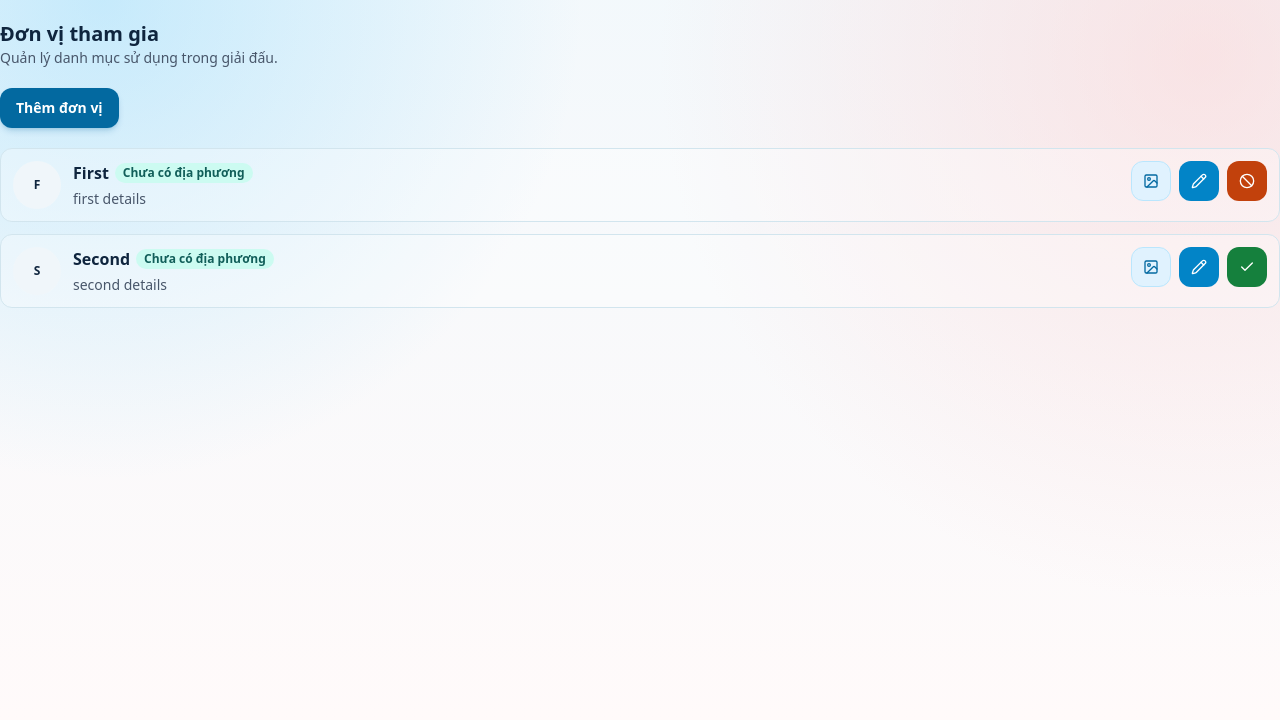
Scenario: RosterItemsPage › hydrates each selected row and replaces every value when switching rows
The image size is (1280, 720).
Click the button named "Sửa" in the row of "first details".
click(1199, 181)  # box [1179, 161, 1219, 201]
(page scrolled)
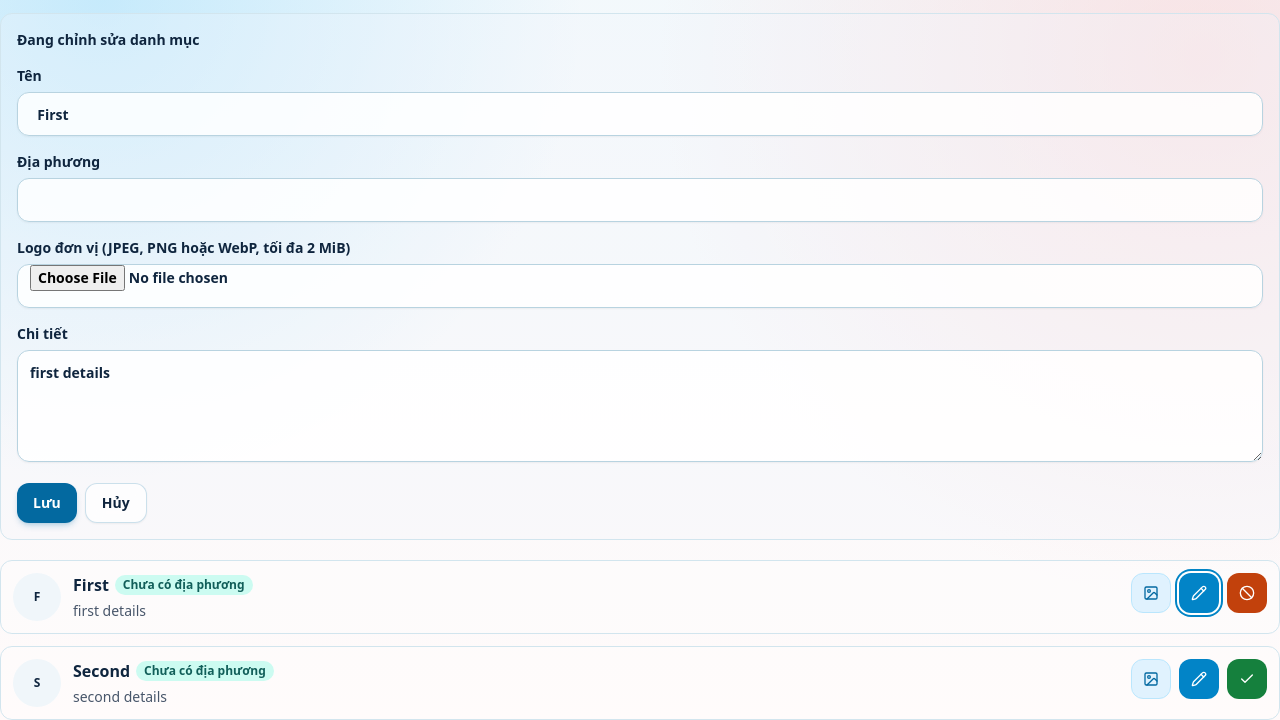
Result: the field labelled "Tên" holds "  First  " at [17, 92, 1263, 136]
Result: the text box labelled "Chi tiết" holds "first details" at [17, 350, 1263, 462]
Click the button named "Sửa" in the row of "second details".
click(1199, 679)  # box [1179, 659, 1219, 699]
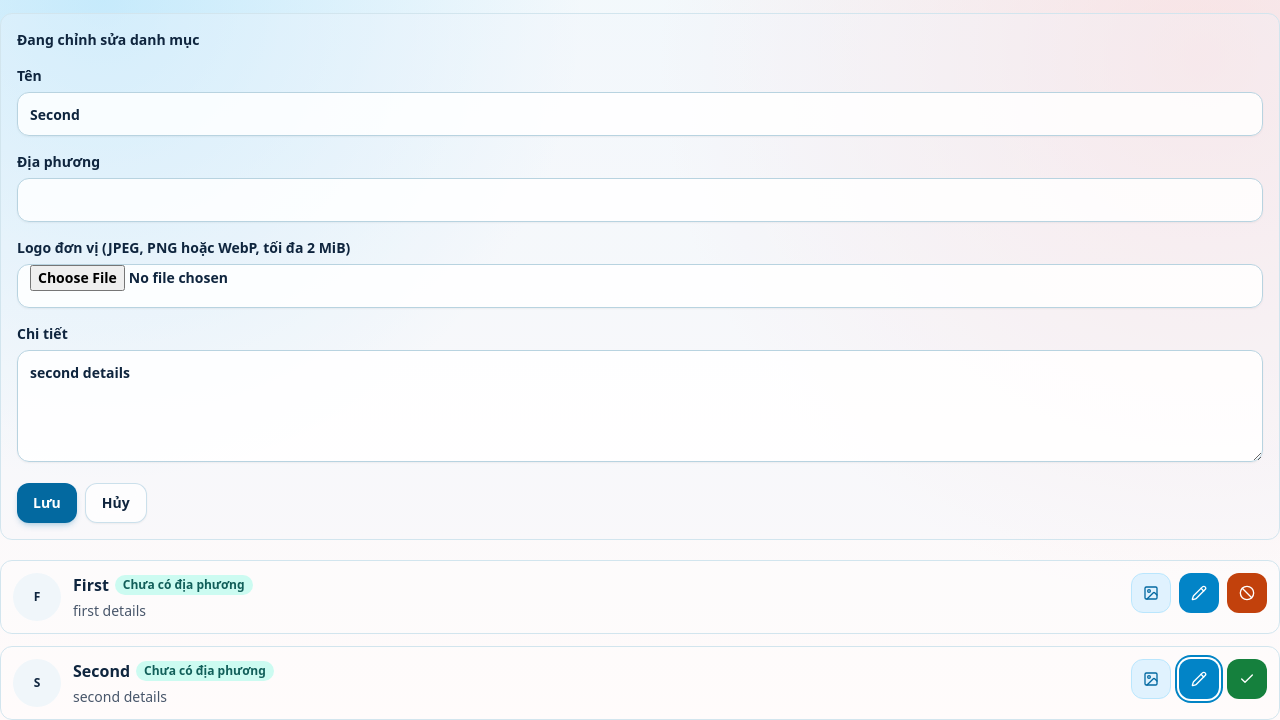
Result: the field labelled "Tên" holds "Second" at [17, 92, 1263, 136]
Result: the text box labelled "Chi tiết" holds "second details" at [17, 350, 1263, 462]
